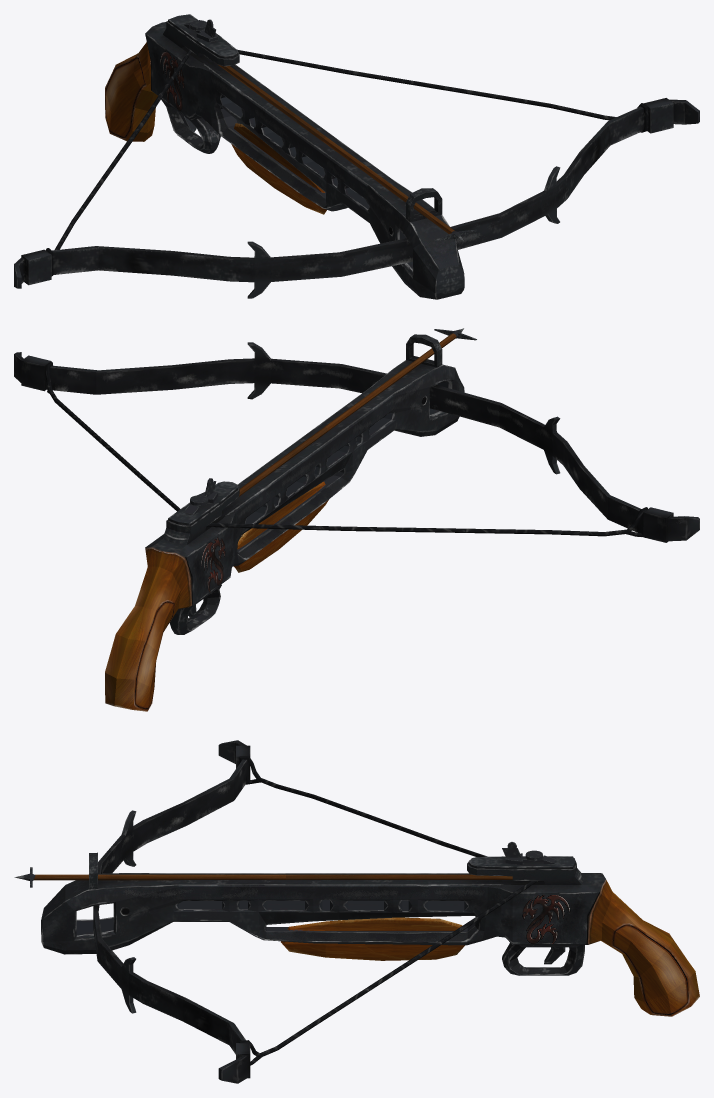
Rendered from Gun_5.fbx.
3 renders of one model, top to bottom at view 1: azimuth 30°, elevation 25°; view 2: azimuth 150°, elevation 25°; view 3: azimuth 270°, elevation 25°, orthographic. The views are drawn at different scales.
Visible parts, largest first — view 1: Part_02, Part_03, Part_01; view 2: Part_02, Part_03, Part_01; view 3: Part_02, Part_03, Part_01.
Part boxes in pixels (x1,y1,x2,y2): Part_02: (14,14,699,299); Part_03: (46,49,648,276); Part_01: (217,64,477,241); Part_02: (14,334,699,711); Part_03: (45,362,647,536); Part_01: (238,328,476,497); Part_02: (41,740,699,1083); Part_03: (239,756,538,1065); Part_01: (14,867,512,887).
Size of the model in its own units: 12.24 by 2.92 by 10.87.
Materials: 1 (1 with a texture image).
